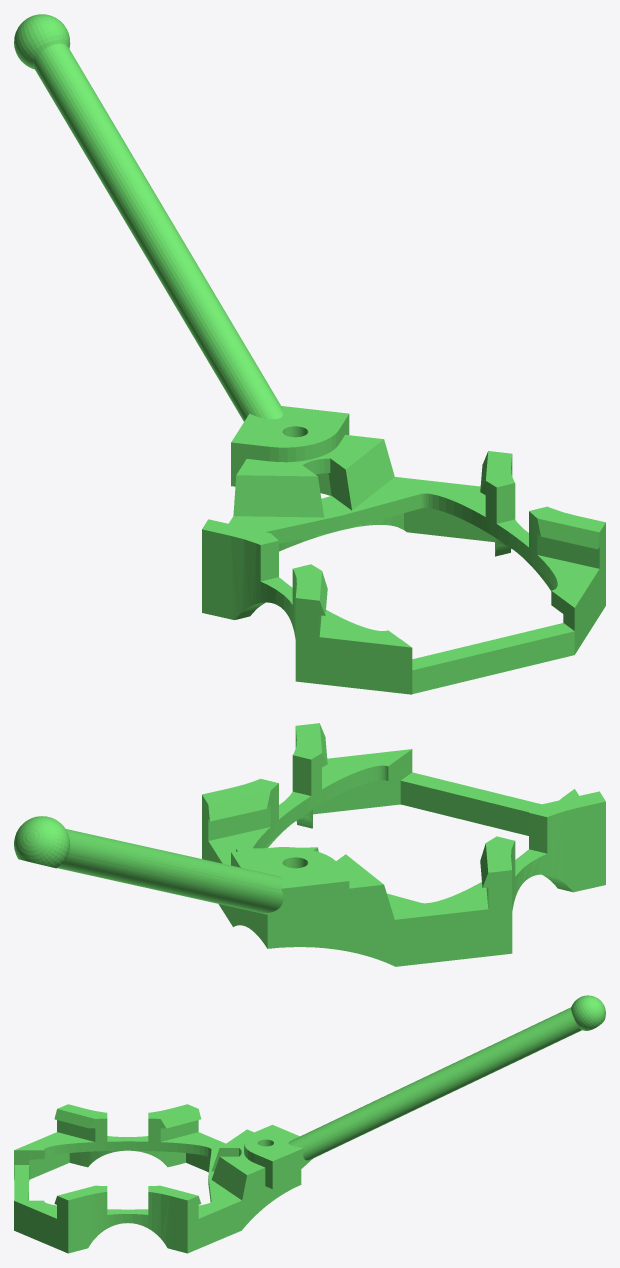
3 renders of one model, top to bottom at view 1: azimuth 30°, elevation 25°; view 2: azimuth 150°, elevation 25°; view 3: azimuth 270°, elevation 25°, orthographic. The views are drawn at different scales.
Visible parts, largest first — view 1: 길이수정버전_뒤고정 (2); view 2: 길이수정버전_뒤고정 (2); view 3: 길이수정버전_뒤고정 (2).
Boxes of the visible parts, x1,y1,x2,y2 form: 길이수정버전_뒤고정 (2): [14, 14, 605, 694]; 길이수정버전_뒤고정 (2): [14, 723, 605, 966]; 길이수정버전_뒤고정 (2): [14, 995, 605, 1253].
Size of the model in its own units: 44.55 by 116 by 44.95.
